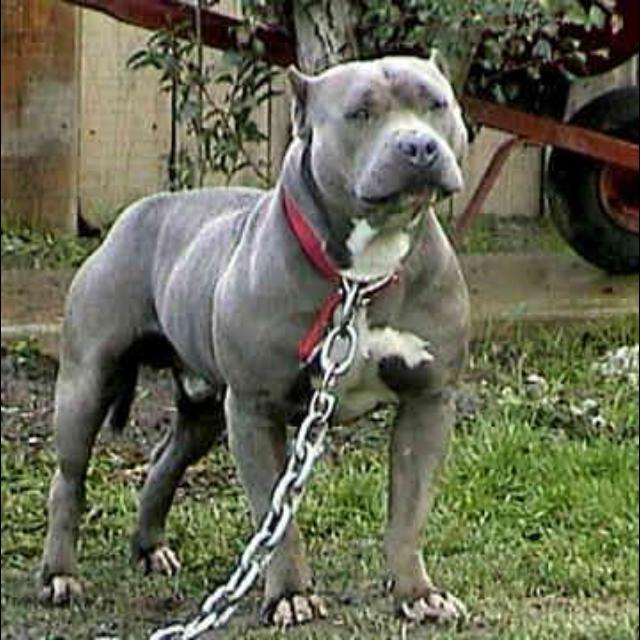staffford: (38, 48, 475, 632)
